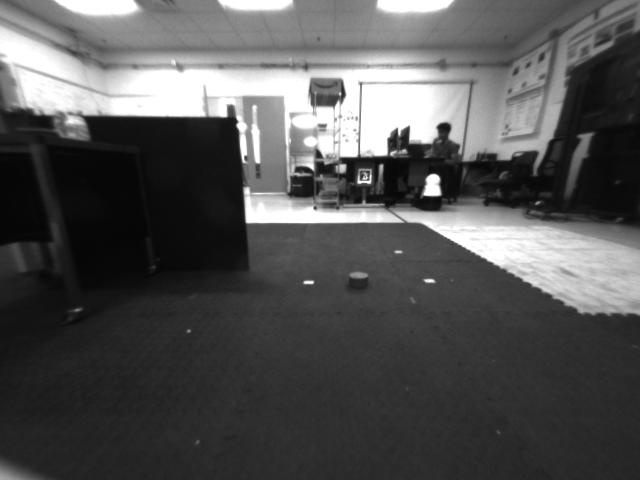dogtoy: (341, 261, 374, 295)
